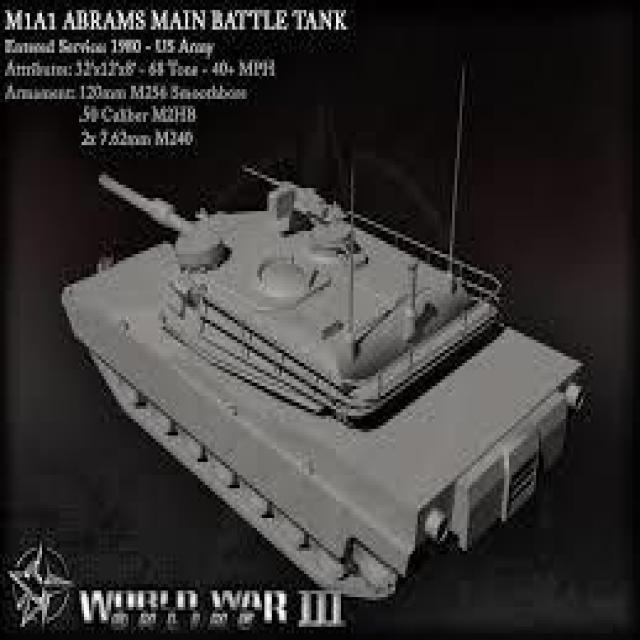Tanks: (58, 165, 572, 627)
